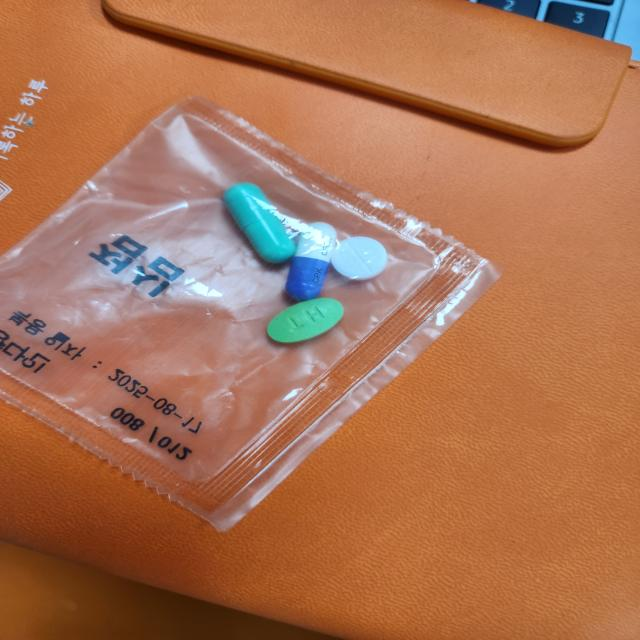러키펜정: (329, 236, 393, 282)
씨엠지세파클러캡슐: (284, 220, 336, 300)
에르도캡슐: (223, 184, 297, 266)
휴티렌정: (265, 298, 345, 348)
